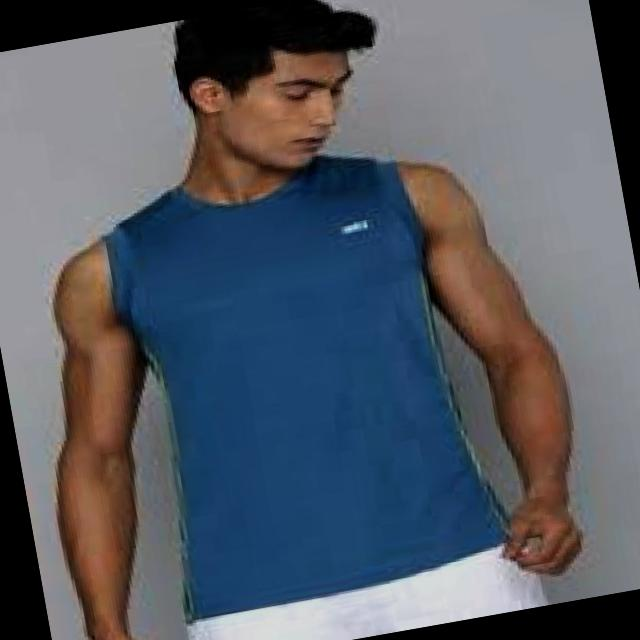no_vest: (94, 131, 521, 624)
